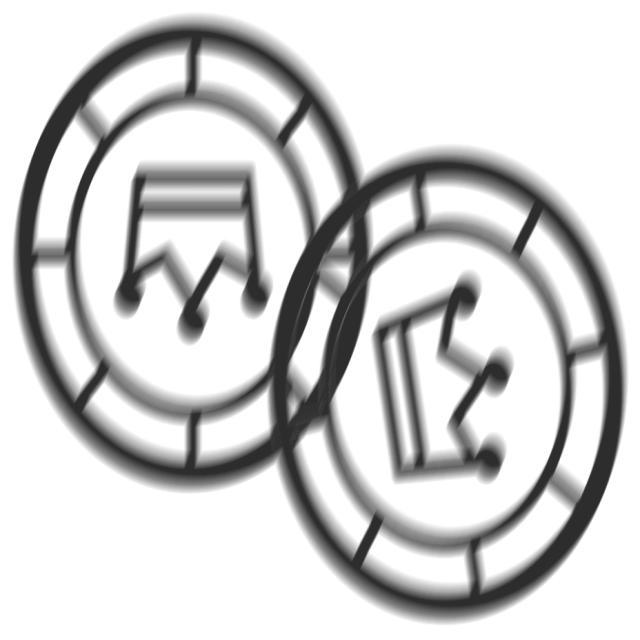coin: (3, 9, 395, 507), (263, 137, 633, 632)
